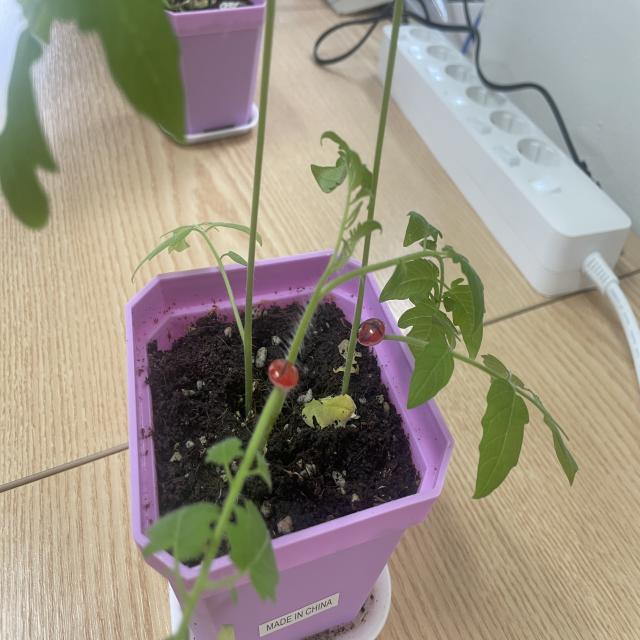bug: (264, 346, 303, 401), (349, 309, 390, 356)
